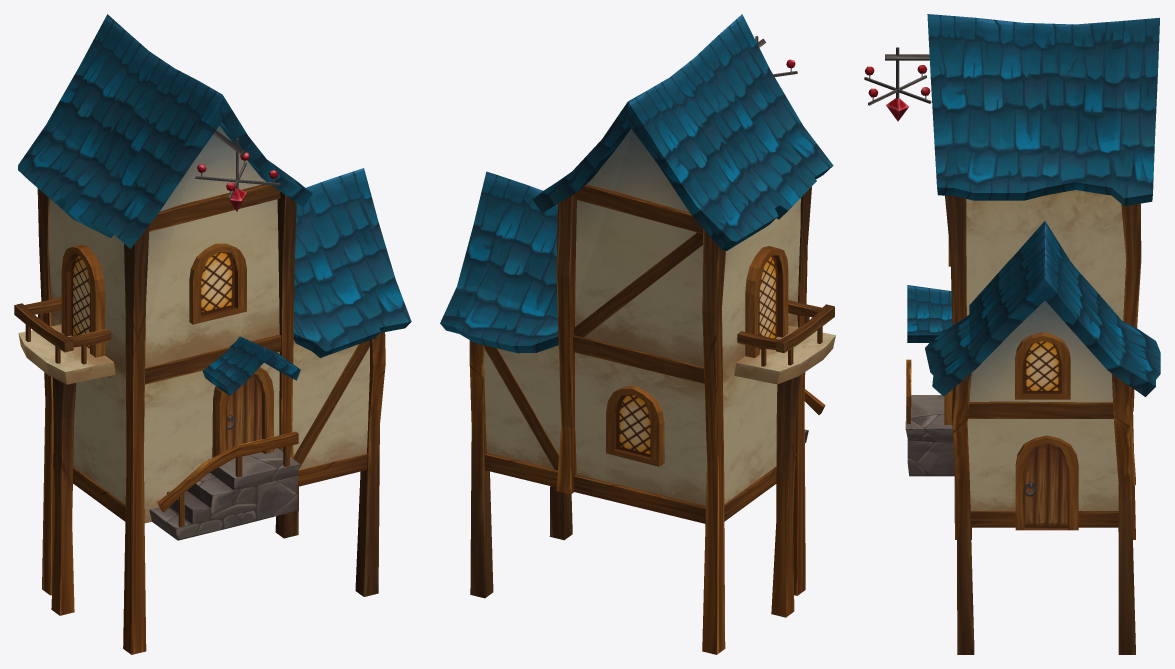
The model's file is house.glb.
3 renders of one model, left to right at view 1: azimuth 30°, elevation 25°; view 2: azimuth 150°, elevation 25°; view 3: azimuth 270°, elevation 25°, orthographic.
Parts seen in each view (by area): view 1: Fantasy_House_6; view 2: Fantasy_House_6; view 3: Fantasy_House_6.
Boxes of the visible parts, x1,y1,x2,y2 form: Fantasy_House_6: (14, 14, 411, 654); Fantasy_House_6: (440, 14, 835, 654); Fantasy_House_6: (864, 14, 1160, 654).
Bounding box in the file's own units: 7.41 × 11.84 × 5.71.
1 material, 1 textured.
